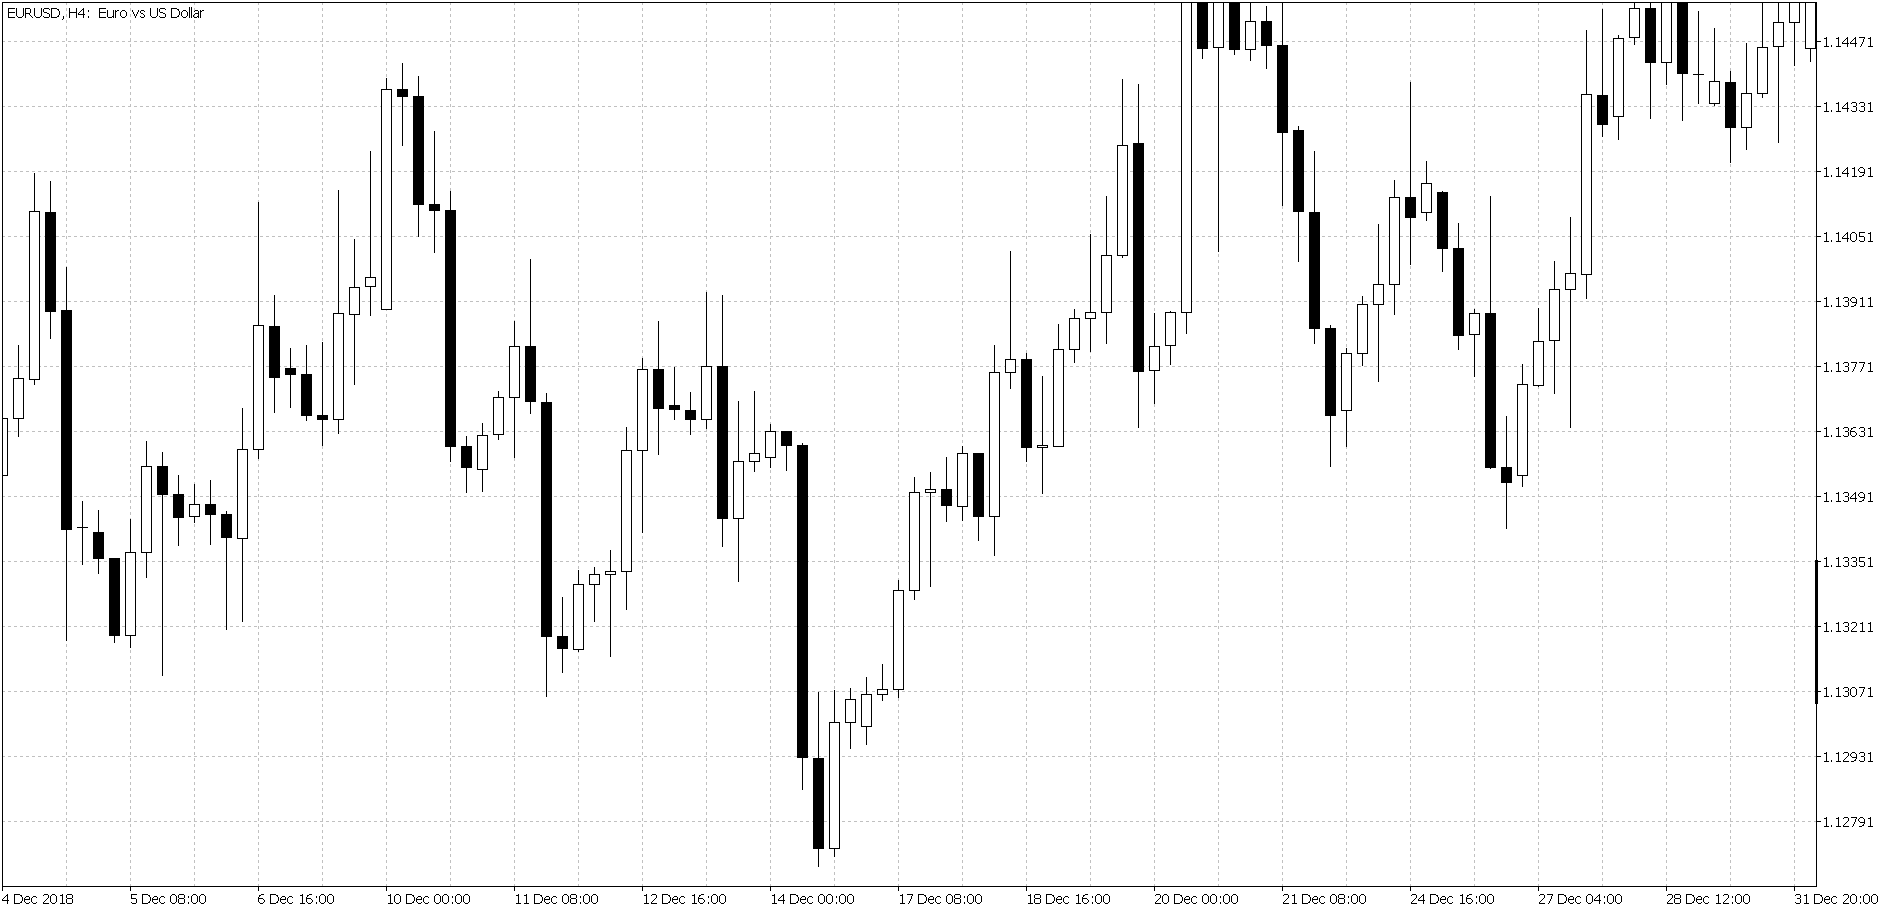bullishEngulfing: (554, 562, 587, 675), (459, 421, 490, 498)
eveningStar: (379, 54, 428, 335)
morningDojiStar: (1015, 330, 1065, 489)
morningStar: (1482, 192, 1530, 521)
